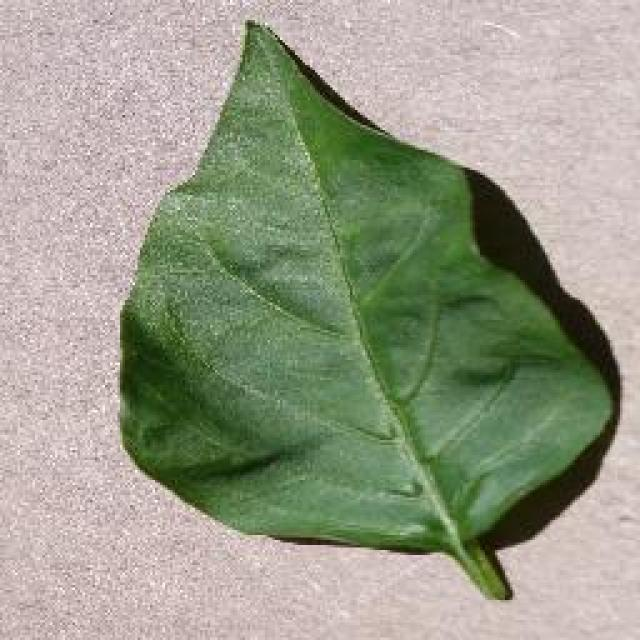Chilli_Healthy: (115, 18, 620, 600)
